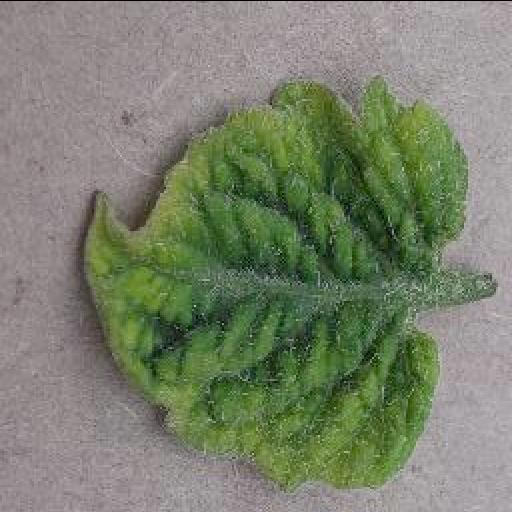disease_tomato: (80, 77, 468, 490)
